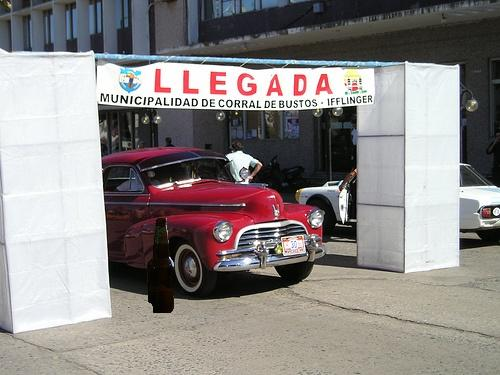tampered: (148, 219, 174, 313)
